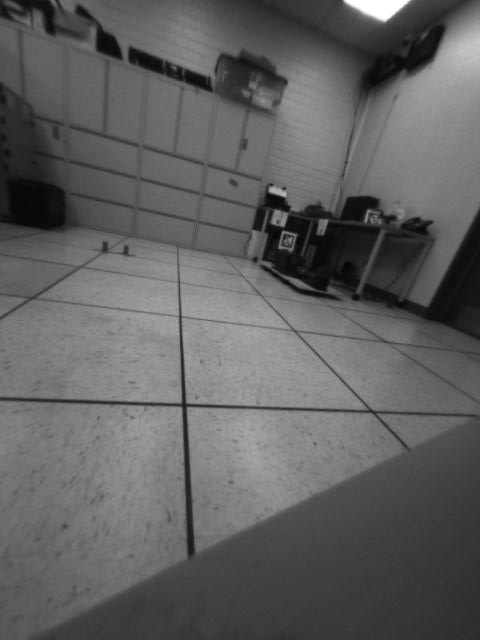X: (113, 244, 139, 260), (91, 238, 113, 255)
